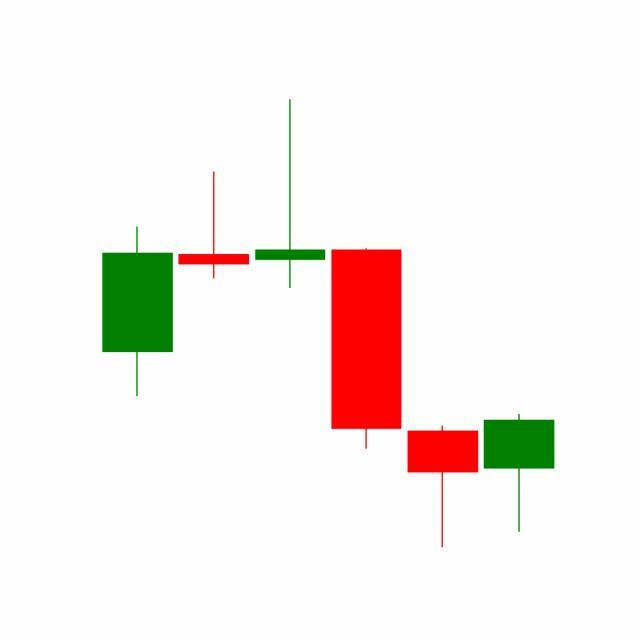Upside-Downside Gap Three Methods: (326, 244, 555, 548)
